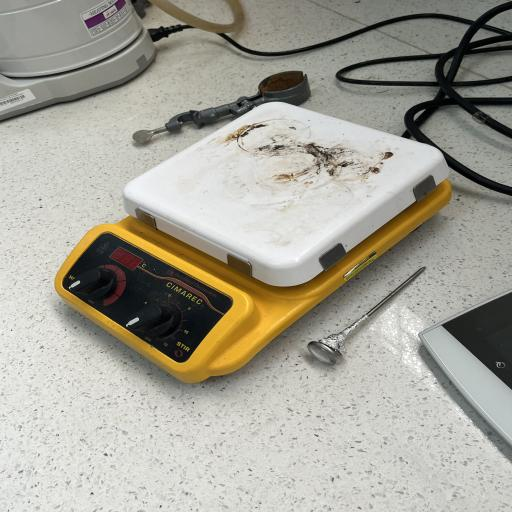Plancha_Agitacion_Cimarec: (43, 96, 461, 390)
